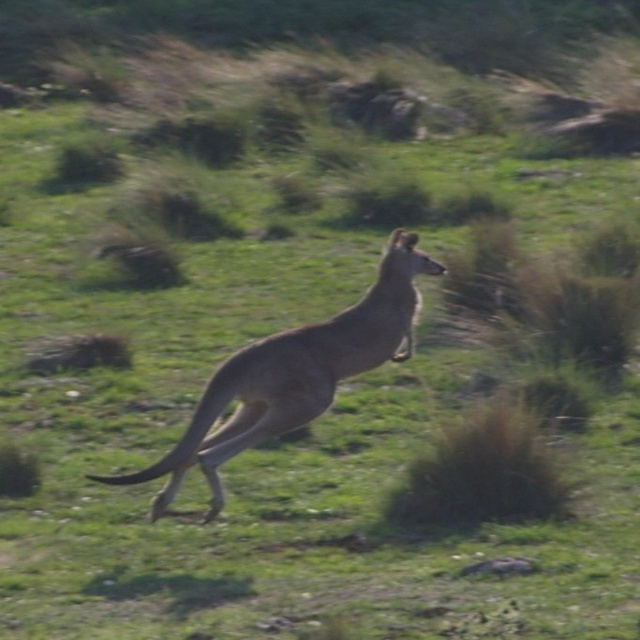Kangaroo: (85, 228, 447, 526)
